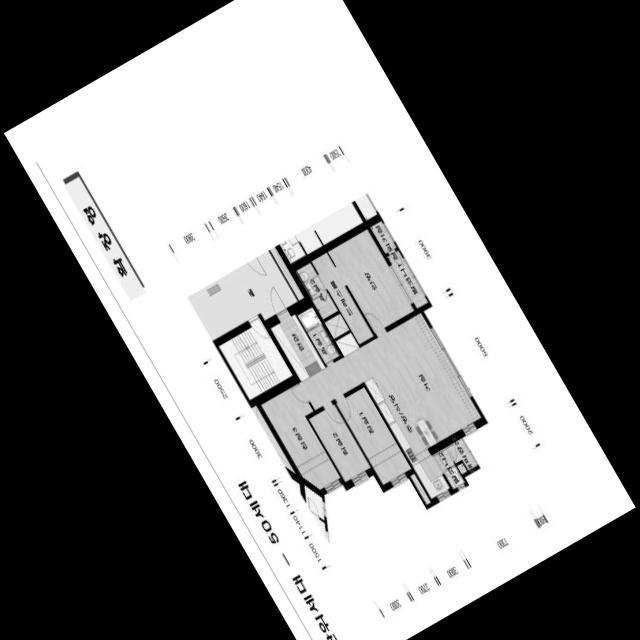background: (4, 0, 636, 640)
space_balconi: (387, 249, 428, 308), (433, 447, 465, 489)
space_bedroom: (328, 228, 414, 333), (261, 383, 340, 489), (336, 386, 411, 485), (309, 403, 371, 481)
space_dressroom: (311, 252, 374, 343)
space_elevator_hall: (187, 250, 298, 340)
space_front: (271, 310, 326, 381)
space_kitchen: (364, 363, 450, 498)
space_living_room: (299, 312, 481, 441)
space_other: (270, 246, 304, 300), (446, 438, 476, 470), (410, 473, 431, 504), (325, 313, 350, 338), (457, 462, 467, 474)
space_outdoor_room: (370, 220, 396, 253)
space_staircase: (218, 317, 293, 400)
space_toilet: (297, 306, 340, 363), (295, 262, 338, 319)
